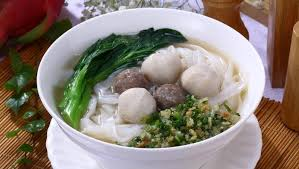bakso: (48, 14, 272, 159)
